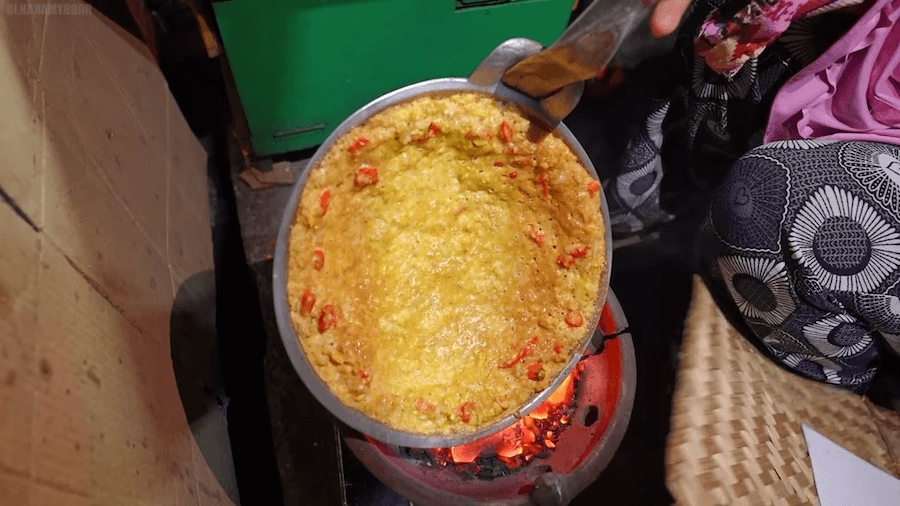kerak_telor: (289, 95, 602, 432)
